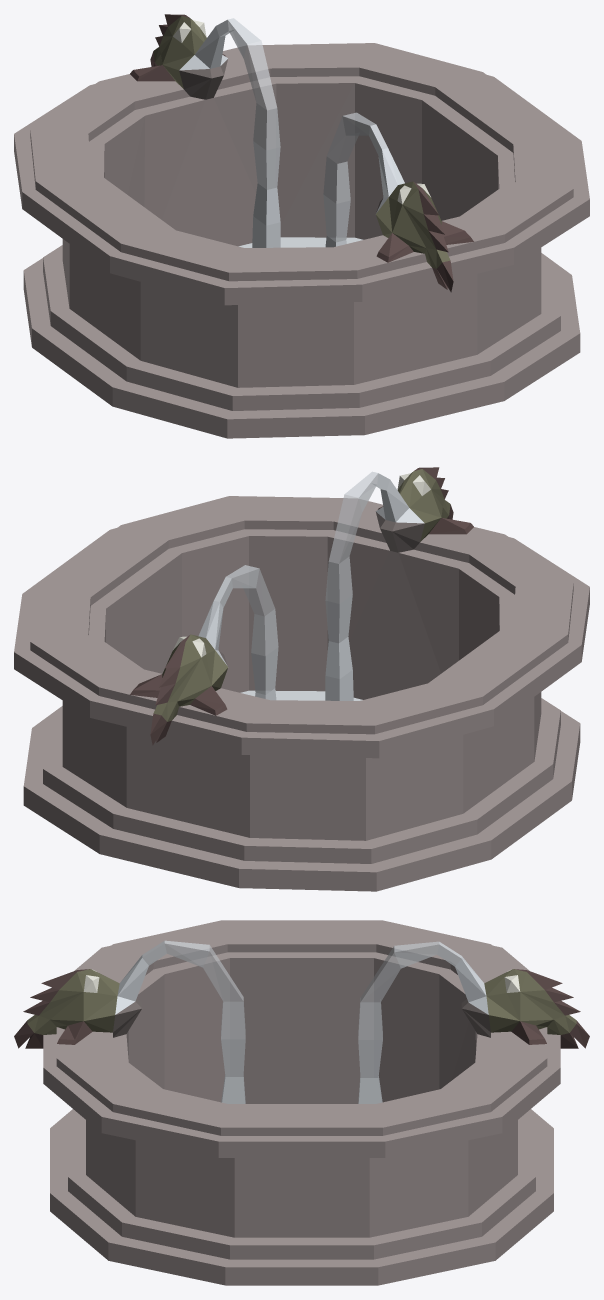
File: garden-theme.gltf
3 views of the same model, one above another, from view 1: azimuth 30°, elevation 25°; view 2: azimuth 150°, elevation 25°; view 3: azimuth 270°, elevation 25° (orthographic). The views are drawn at different scales.
Size of the model in its own units: 230 by 116 by 256.
2 materials, 2 textured.
